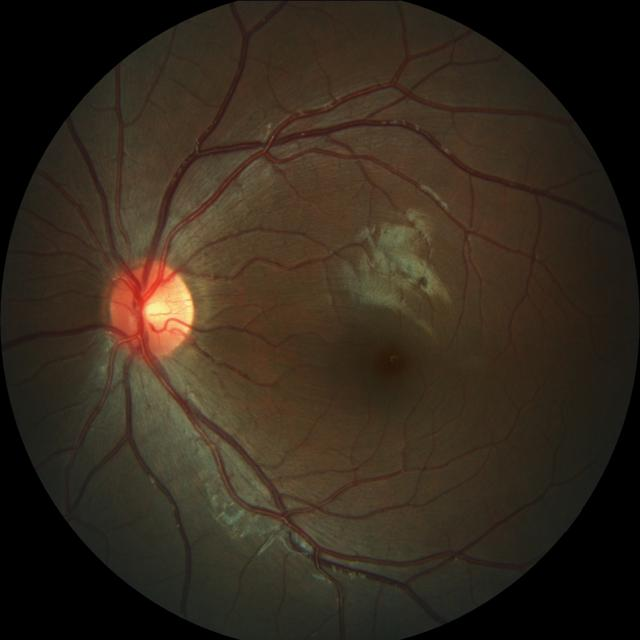OC: (132, 290, 171, 330)
OD: (105, 260, 193, 360)
